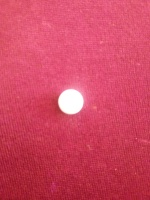Yuvarlak Buskopan: (56, 88, 85, 116)
